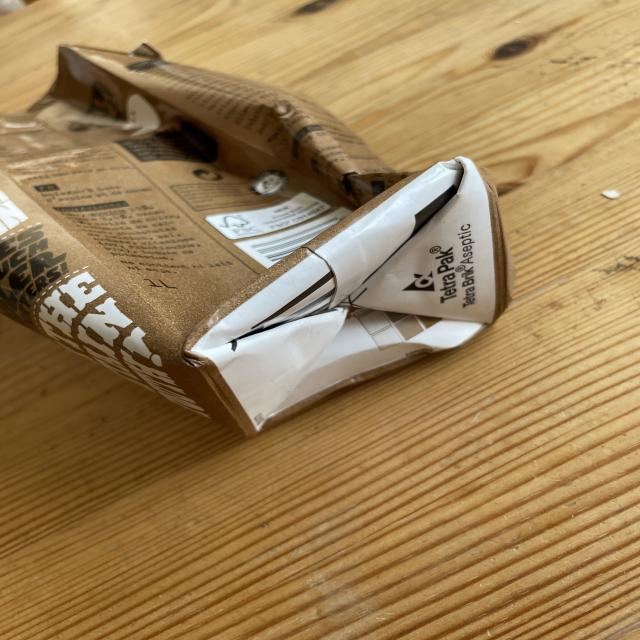non_white_jug: (0, 44, 508, 426)
